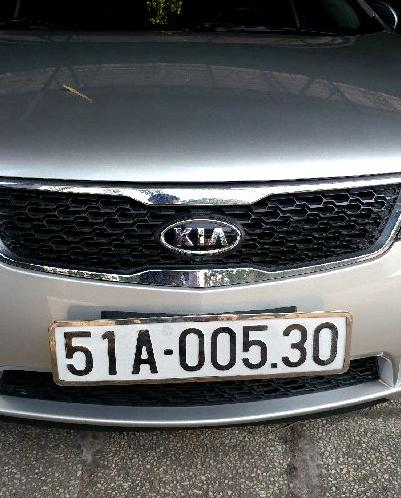Plate-iWeP: (57, 313, 350, 383)
